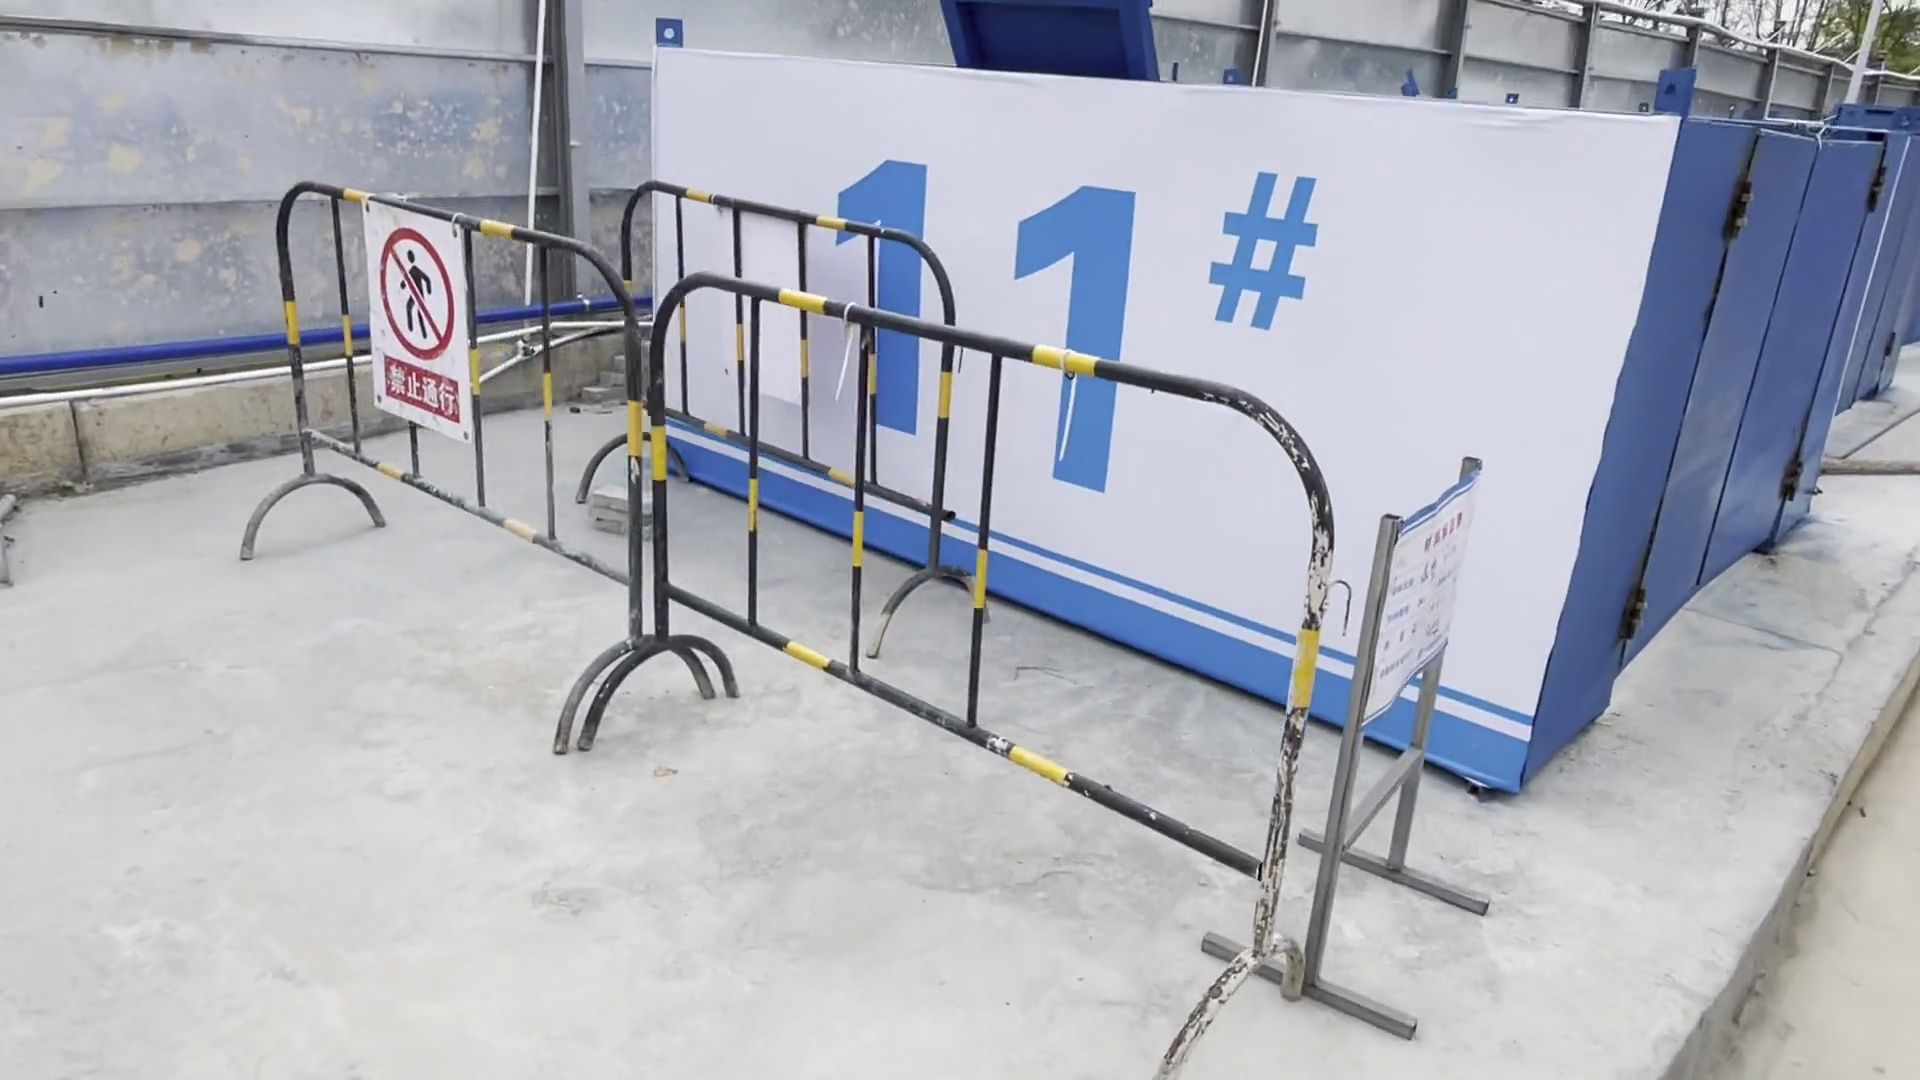fence: (235, 175, 1345, 1080)
slogan: (357, 193, 471, 452)
